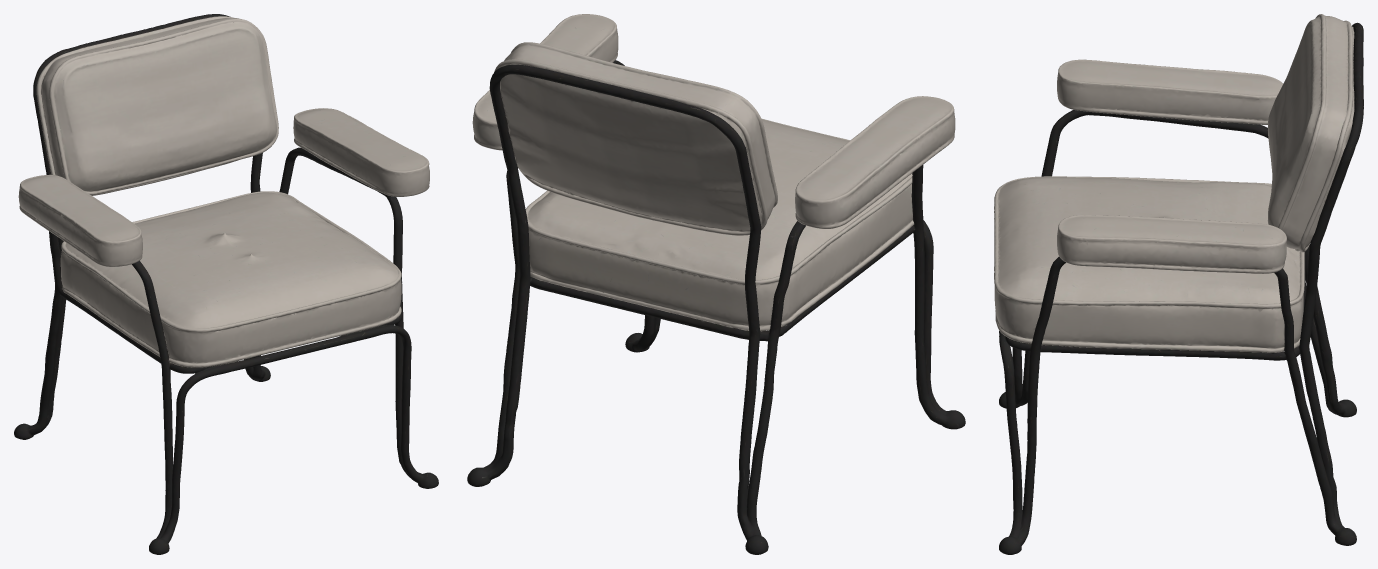
The model's file is metal_arm_chair.glb.
The picture shows the model from 3 angles, left to right: view 1: azimuth 30°, elevation 25°; view 2: azimuth 150°, elevation 25°; view 3: azimuth 270°, elevation 25°; orthographic projection. The views are drawn at different scales.
Visible parts, largest first — view 1: world; view 2: world; view 3: world.
Boxes of the visible parts, bbox=[...] form: world: bbox=[14, 14, 438, 554]; world: bbox=[467, 14, 965, 554]; world: bbox=[994, 14, 1363, 554].
Size of the model in its own units: 0.915 by 0.9996 by 0.7956.
Materials: 1 (1 with a texture image).
